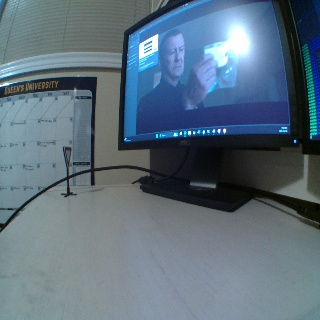sign_yield: (61, 145, 74, 166)
